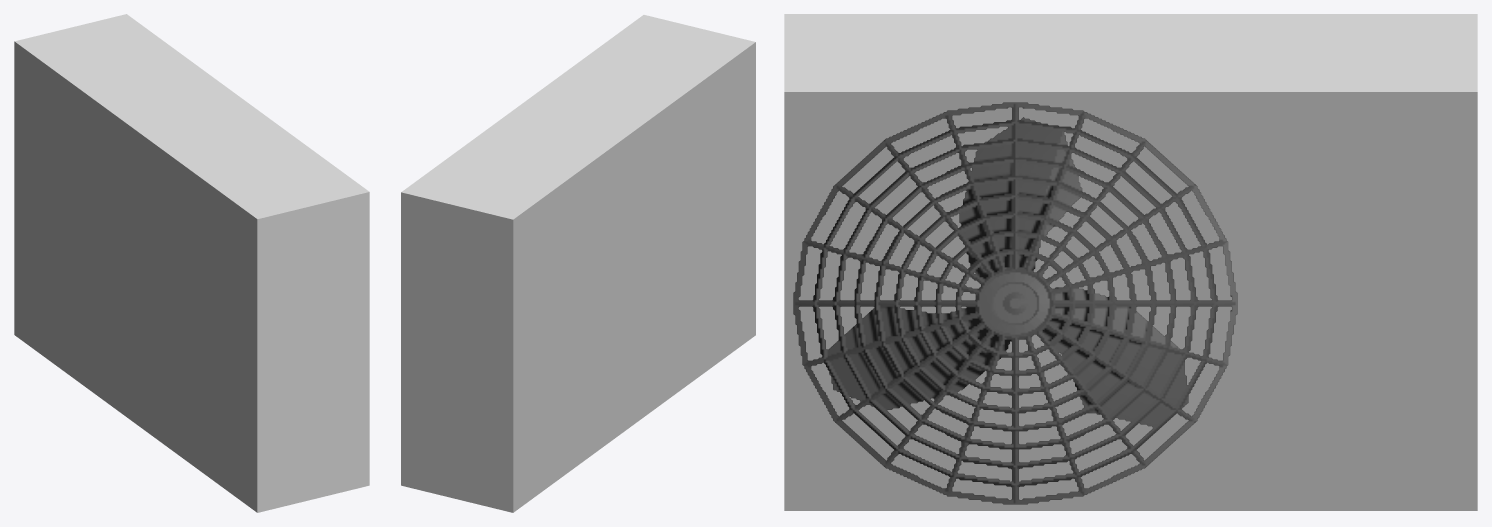
3 renders of one model, left to right at view 1: azimuth 30°, elevation 25°; view 2: azimuth 150°, elevation 25°; view 3: azimuth 270°, elevation 25°, orthographic. The views are drawn at different scales.
Visible parts, largest first — view 1: AC Base; view 2: AC Base; view 3: AC Base, 0001.
Part boxes in pixels (x1,y1,x2,y2): AC Base: (14, 14, 369, 512); AC Base: (401, 15, 755, 512); AC Base: (784, 14, 1477, 510); 0001: (793, 102, 1237, 504).
Size of the model in its own units: 41 by 100 by 150.
Materials: 3 (1 with a texture image).
